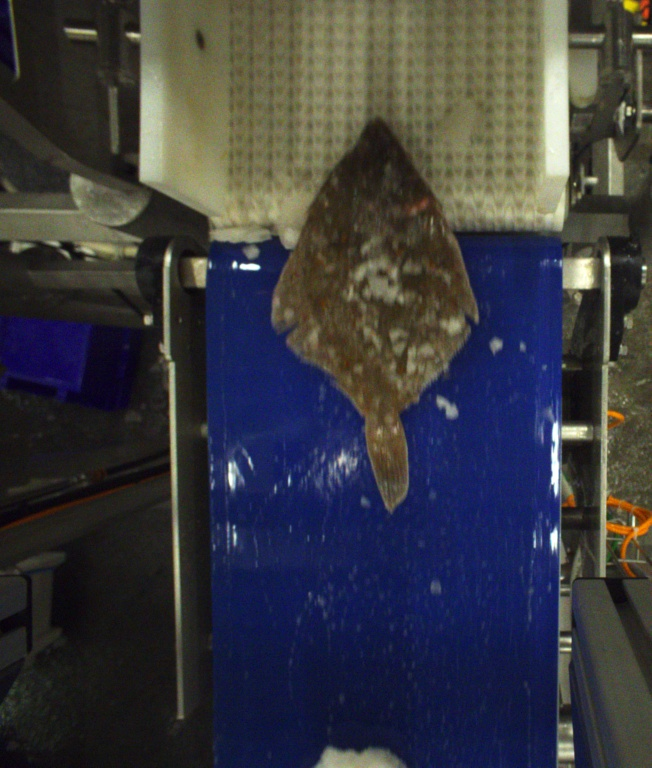PLE: (270, 117, 480, 510)
